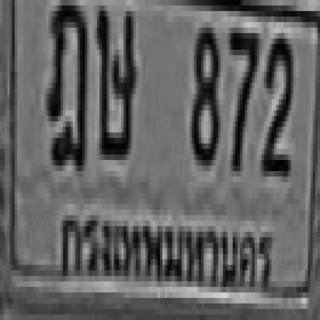A14: (46, 0, 85, 166)
A39: (95, 5, 133, 154)
N02: (260, 33, 292, 171)
N07: (228, 25, 257, 168)
N08: (189, 22, 218, 160)
P04: (55, 197, 278, 299)
